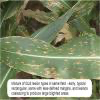Corn Gray leaf spot: (0, 34, 99, 79), (28, 3, 79, 49), (20, 1, 99, 29)
